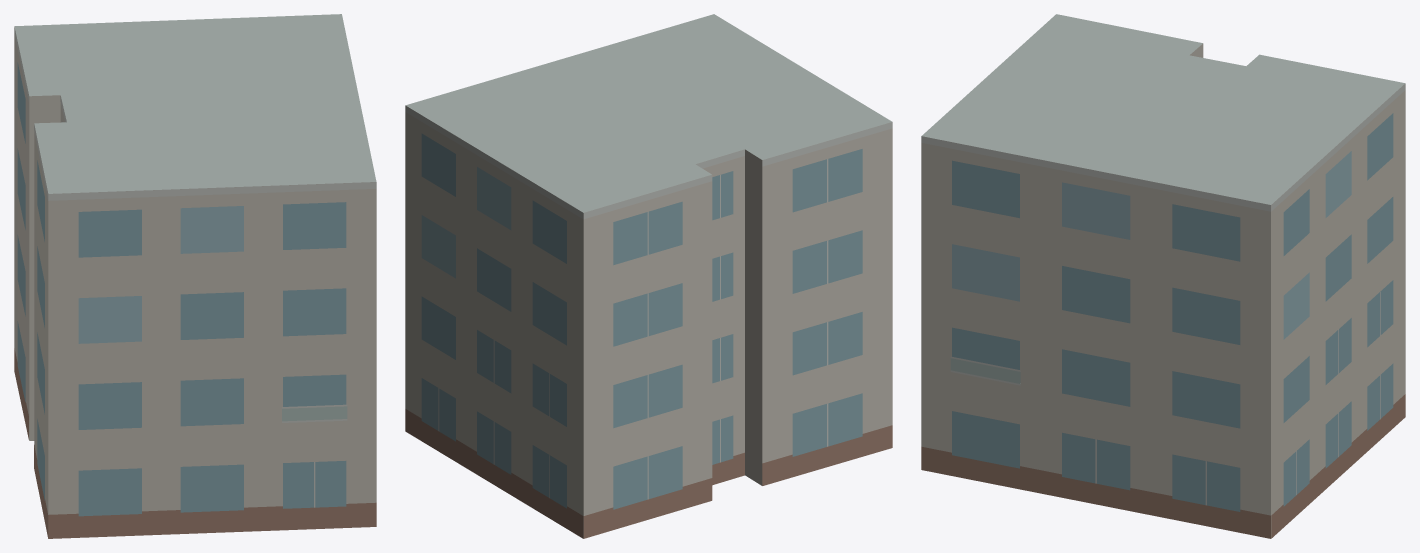
Rendered from survey-upis-32809720.glb.
3 views of the same model, side by side, from view 1: azimuth 30°, elevation 25°; view 2: azimuth 150°, elevation 25°; view 3: azimuth 270°, elevation 25° (orthographic). The views are drawn at different scales.
Parts seen in each view (by area): view 1: survey-upis-32809720.tmp; view 2: survey-upis-32809720.tmp; view 3: survey-upis-32809720.tmp.
Part boxes in pixels (x1,y1,x2,y2): survey-upis-32809720.tmp: (14, 14, 376, 538); survey-upis-32809720.tmp: (405, 14, 892, 538); survey-upis-32809720.tmp: (921, 14, 1405, 538).
Size of the model in its own units: 14.98 by 12.2 by 16.05.
